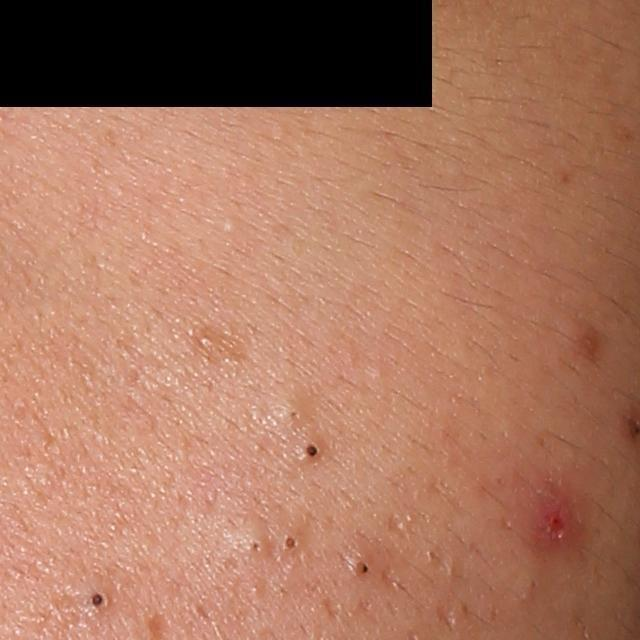atrophic_scar: (433, 597, 462, 638), (382, 560, 403, 596)
comedo: (285, 402, 306, 427), (221, 214, 243, 237), (278, 535, 306, 553), (89, 592, 111, 612)
papule: (527, 497, 575, 543)
